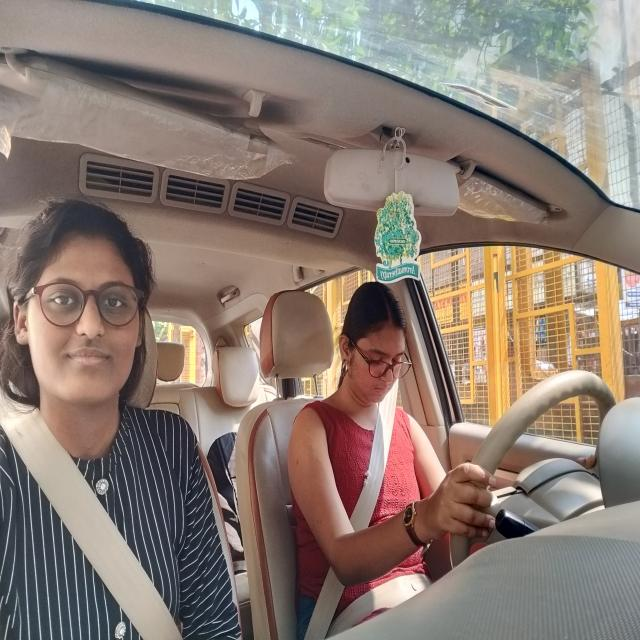drowsy: (337, 272, 419, 462)
person: (0, 187, 157, 466)
